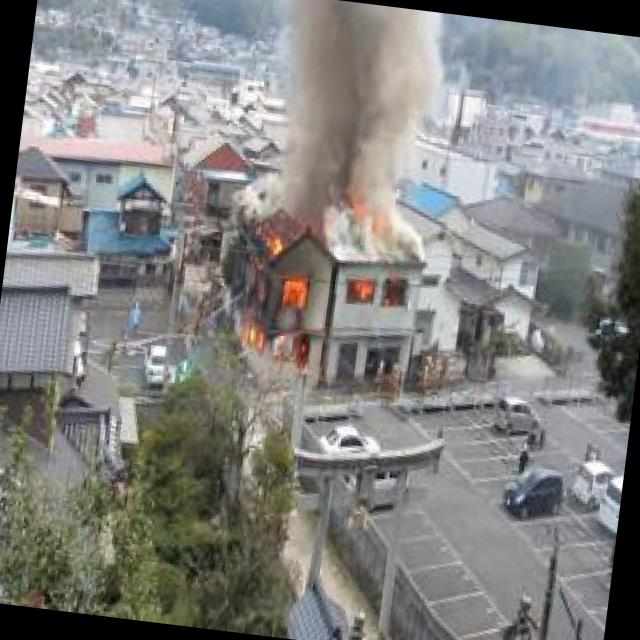Fire: (230, 232, 320, 371), (339, 272, 382, 301)
Smoke: (253, 0, 464, 237)
